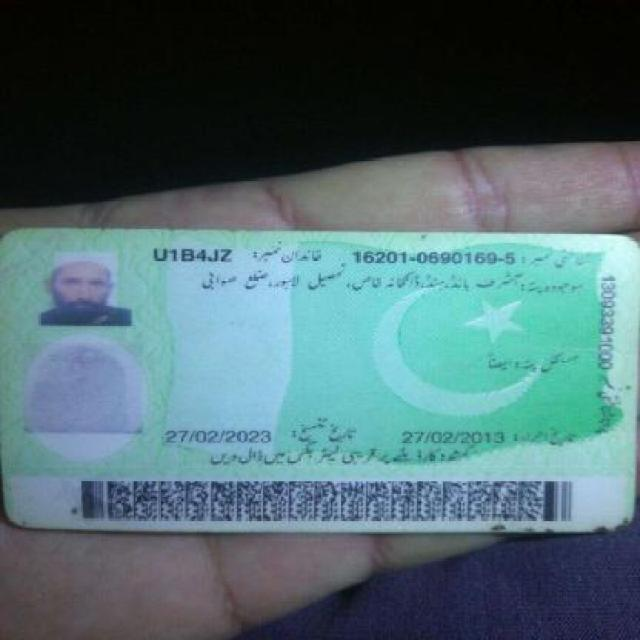Back: (1, 220, 632, 538)
